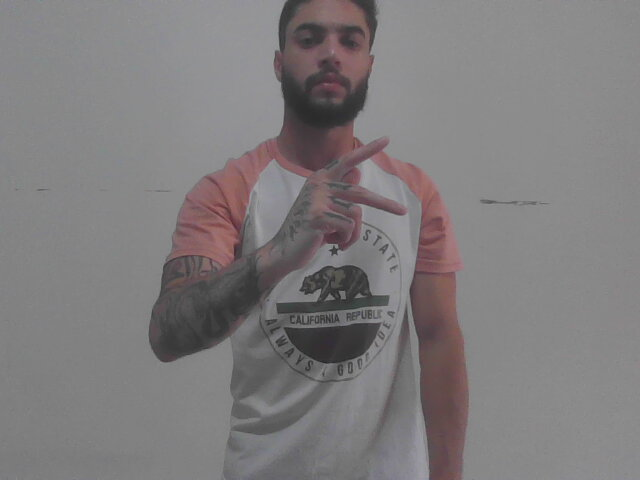k: (278, 131, 409, 276)
